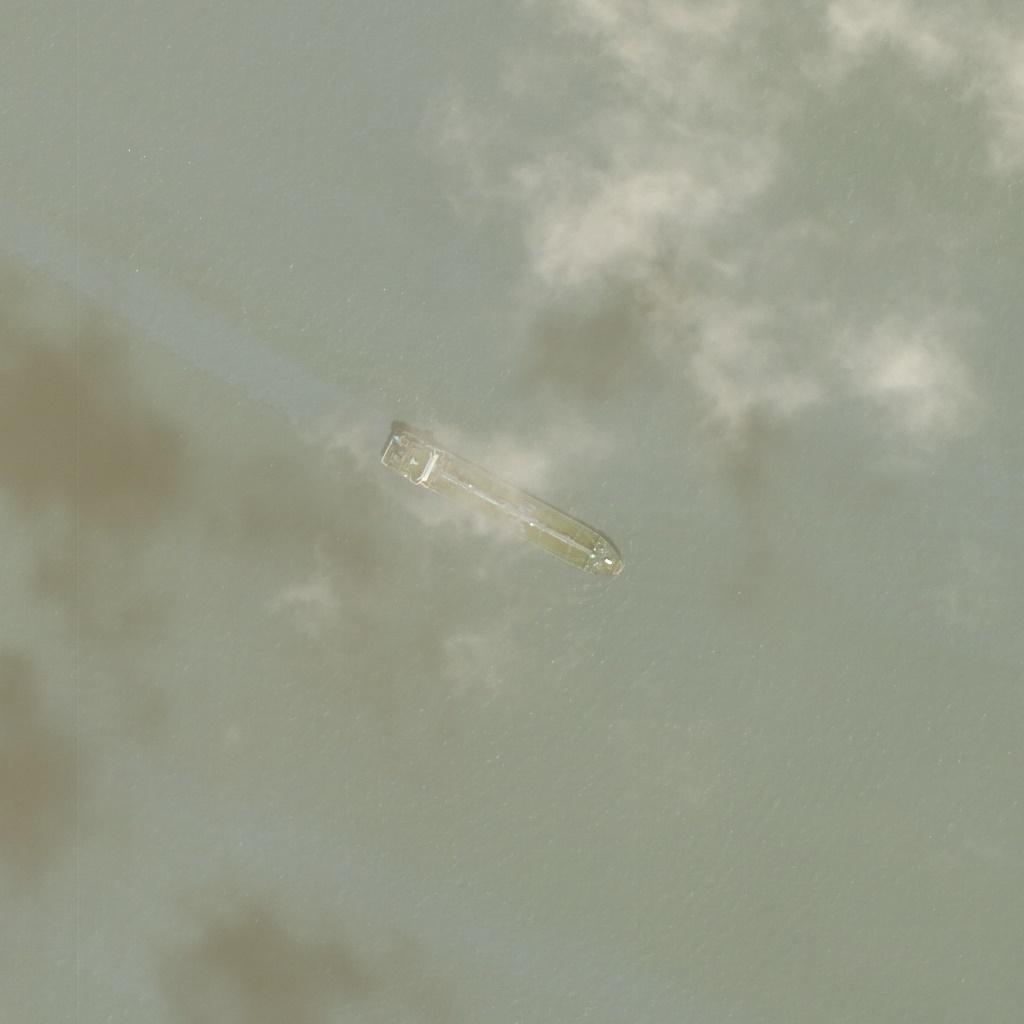ship: (477, 419, 530, 586)
